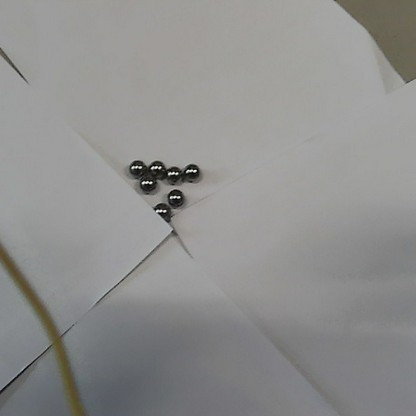ironball: (163, 165, 180, 184), (182, 161, 198, 181), (147, 160, 163, 177), (167, 188, 183, 204), (128, 158, 143, 175), (155, 202, 171, 217), (140, 178, 153, 190)
